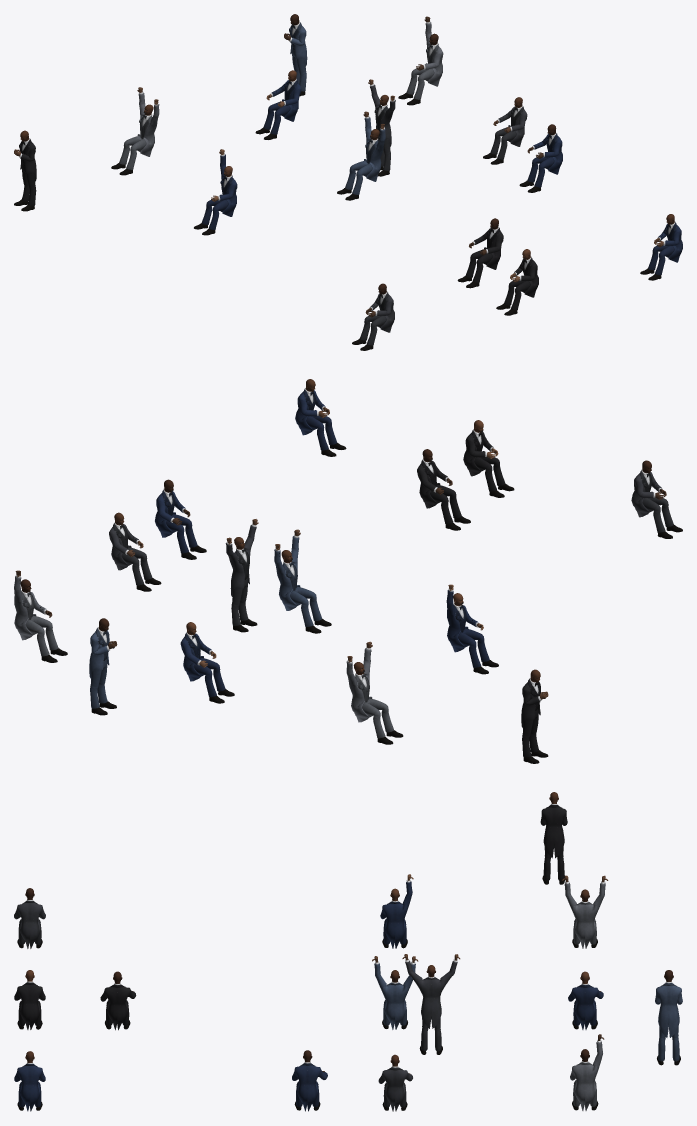
Rendered from alpha_people.glb.
3 renders of one model, top to bottom at view 1: azimuth 30°, elevation 25°; view 2: azimuth 150°, elevation 25°; view 3: azimuth 270°, elevation 25°, orthographic. The views are drawn at different scales.
Visible parts, largest first — view 1: alpha_people; view 2: alpha_people; view 3: alpha_people.
Part boxes in pixels (x1,y1,x2,y2): alpha_people: [14, 14, 682, 350]; alpha_people: [14, 379, 682, 763]; alpha_people: [14, 792, 682, 1111].
Bounding box in the file's own units: 11.03 × 2.04 × 12.53.
Materials: 20 (16 with a texture image).
